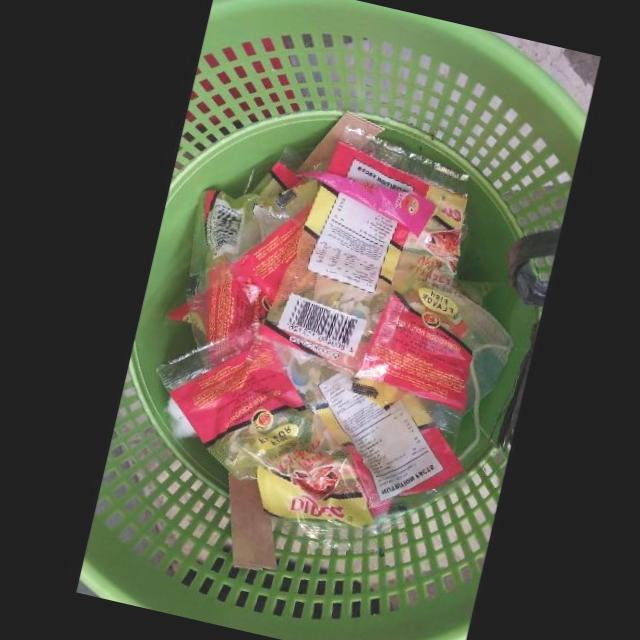bao_bi_thuc_pham: (247, 131, 472, 430), (156, 324, 463, 526), (186, 189, 272, 346), (216, 179, 320, 300), (296, 171, 436, 236), (251, 146, 303, 197)
giay: (295, 110, 384, 173), (228, 471, 277, 570)
